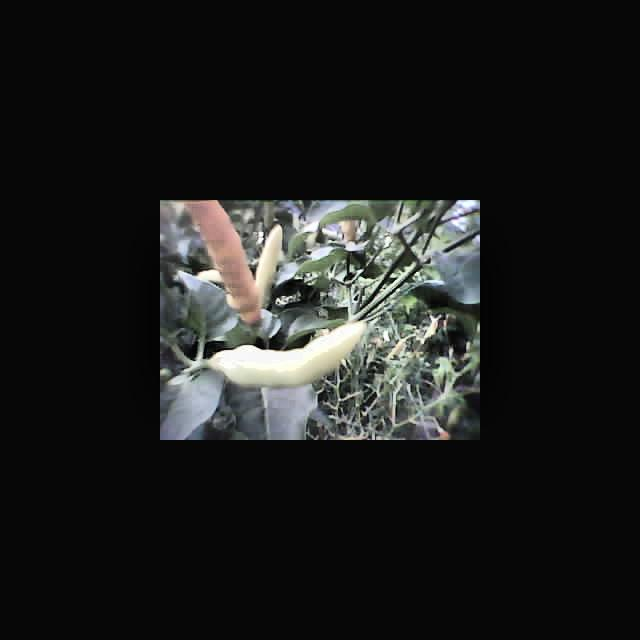Cabai: (190, 200, 259, 327)
